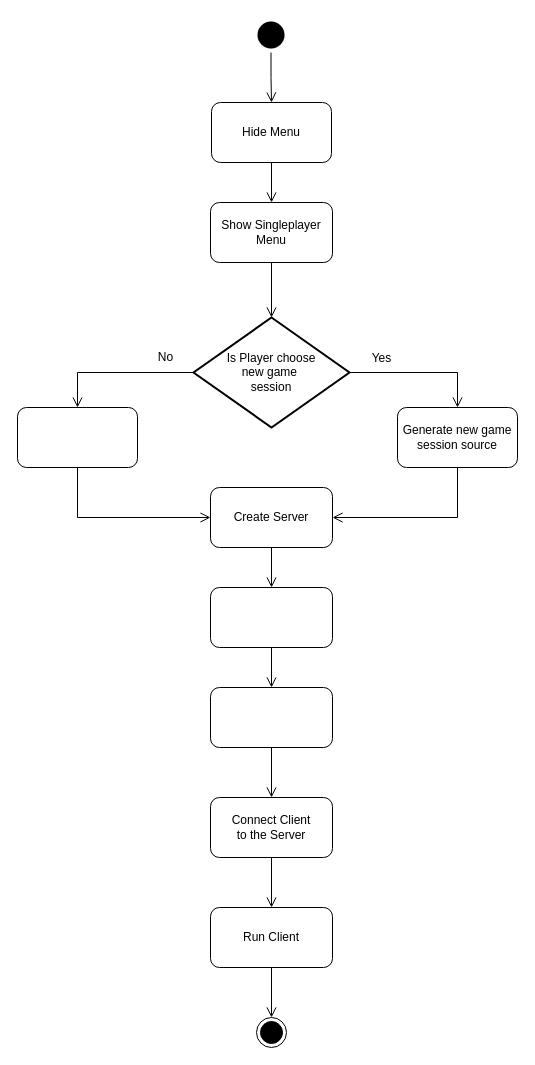
Image size: 535x1065. Some labels were removed from this diagram. The shapes that lost their labels are listed below. From the top down, each one's box as (x1, y1, x2, y2) in pixels, then its label:
(16, 406, 138, 468): Load saved game session source
(210, 586, 332, 648): Run Server
(210, 686, 332, 748): Create Client
